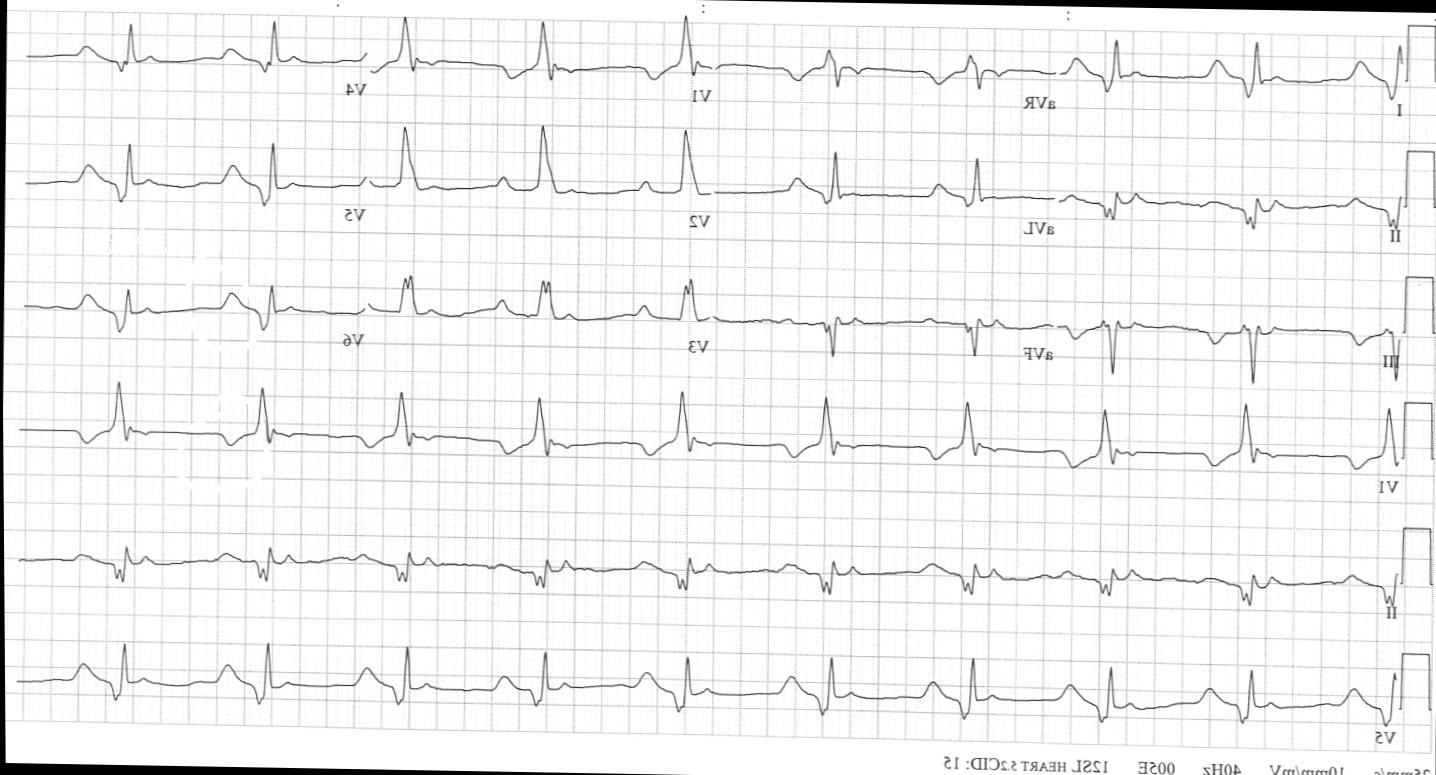Lead_I: (1056, 28, 1406, 152)
Lead_II: (1052, 154, 1405, 270)
Lead_III: (1052, 284, 1405, 400)
Lead_II_ext: (8, 513, 1406, 637)
Lead_V1: (366, 0, 715, 126), (1051, 400, 1407, 517)
Lead_V2: (367, 120, 716, 260)
Lead_V3: (363, 266, 719, 366)
Lead_V4: (15, 0, 372, 122)
Lead_V5: (22, 119, 368, 253), (1047, 649, 1402, 753)
Lead_V6: (12, 246, 370, 379)
Lead_aVF: (713, 282, 1059, 377)
Lead_aVL: (713, 151, 1059, 259)
Lead_aVR: (721, 21, 1059, 132)
